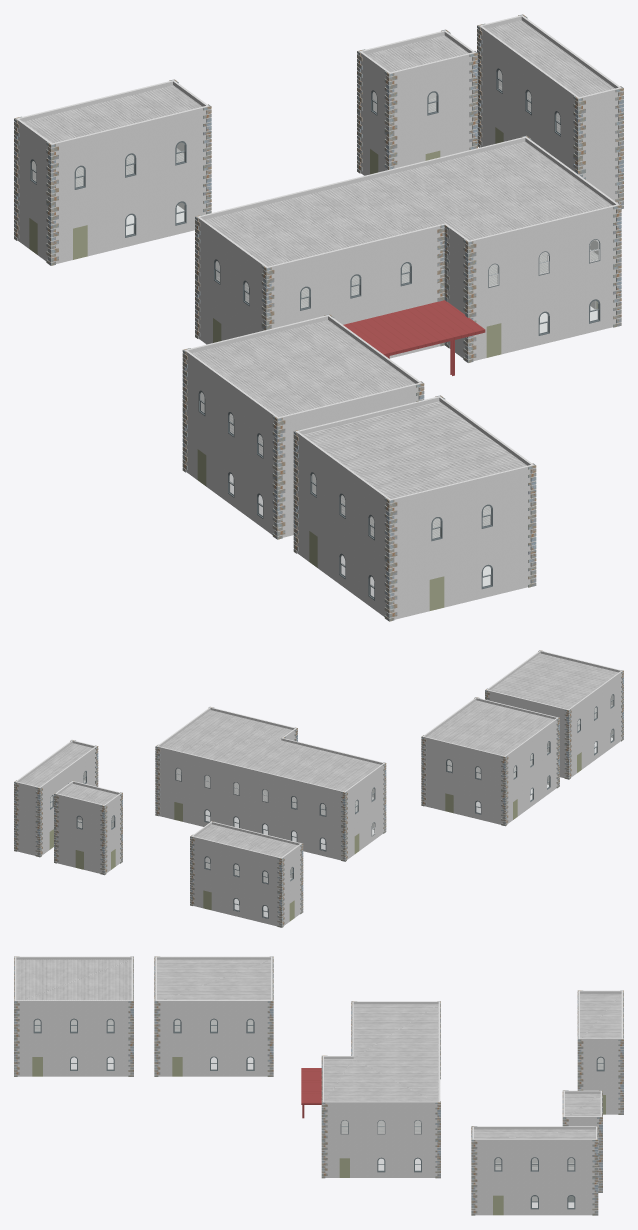
Rendered from Plan(REF)_levels(2)_window(W Arch Head 23_3-5)_wall(WAFRA WALL)_quoin(Y)_cornice(N).fbx.
3 renders of one model, top to bottom at view 1: azimuth 30°, elevation 25°; view 2: azimuth 150°, elevation 25°; view 3: azimuth 270°, elevation 25°, orthographic. The views are drawn at different scales.
Parts seen in each view (by area): view 1: WAFRA Stucco - White Rough 23, WAFRA Roof - Corrugated Sheet Matte 23, WAFRA Stone - Slate Natural 23, WAFRA Roof - Standing Seam Red Coat 23, Metal - Finish - Aluminum, Glass - Clear, Color - White, Color - Beige; view 2: WAFRA Stucco - White Rough 23, WAFRA Roof - Corrugated Sheet Matte 23, WAFRA Stone - Slate Natural 23, Metal - Finish - Aluminum, Glass - Clear, Color - White, Color - Beige; view 3: WAFRA Stucco - White Rough 23, WAFRA Roof - Corrugated Sheet Matte 23, WAFRA Stone - Slate Natural 23, Metal - Finish - Aluminum, Glass - Clear, Color - White, Color - Beige, WAFRA Roof - Standing Seam Red Coat 23.
Boxes of the visible parts, bbox=[...] form: WAFRA Stucco - White Rough 23: bbox=[16, 15, 621, 619]; WAFRA Roof - Corrugated Sheet Matte 23: bbox=[23, 20, 614, 538]; WAFRA Stone - Slate Natural 23: bbox=[14, 14, 623, 621]; WAFRA Roof - Standing Seam Red Coat 23: bbox=[343, 300, 485, 375]; Metal - Finish - Aluminum: bbox=[30, 68, 600, 600]; Glass - Clear: bbox=[32, 70, 598, 596]; Color - White: bbox=[14, 29, 623, 618]; Color - Beige: bbox=[29, 127, 597, 610]; WAFRA Stucco - White Rough 23: bbox=[15, 650, 622, 926]; WAFRA Roof - Corrugated Sheet Matte 23: bbox=[19, 653, 618, 882]; WAFRA Stone - Slate Natural 23: bbox=[14, 650, 623, 927]; Metal - Finish - Aluminum: bbox=[50, 694, 614, 918]; Glass - Clear: bbox=[50, 695, 613, 917]; Color - White: bbox=[14, 675, 623, 925]; Color - Beige: bbox=[49, 752, 581, 921]; WAFRA Stucco - White Rough 23: bbox=[14, 956, 623, 1215]; WAFRA Roof - Corrugated Sheet Matte 23: bbox=[16, 959, 621, 1169]; WAFRA Stone - Slate Natural 23: bbox=[14, 956, 623, 1215]; Metal - Finish - Aluminum: bbox=[33, 1018, 604, 1209]; Glass - Clear: bbox=[35, 1020, 603, 1207]; Color - White: bbox=[14, 958, 623, 1213]; Color - Beige: bbox=[32, 1057, 605, 1215]; WAFRA Roof - Standing Seam Red Coat 23: bbox=[301, 1068, 321, 1118].
Size of the model in its own units: 4163 by 5848 by 800.
Materials: 12 (5 with a texture image).
